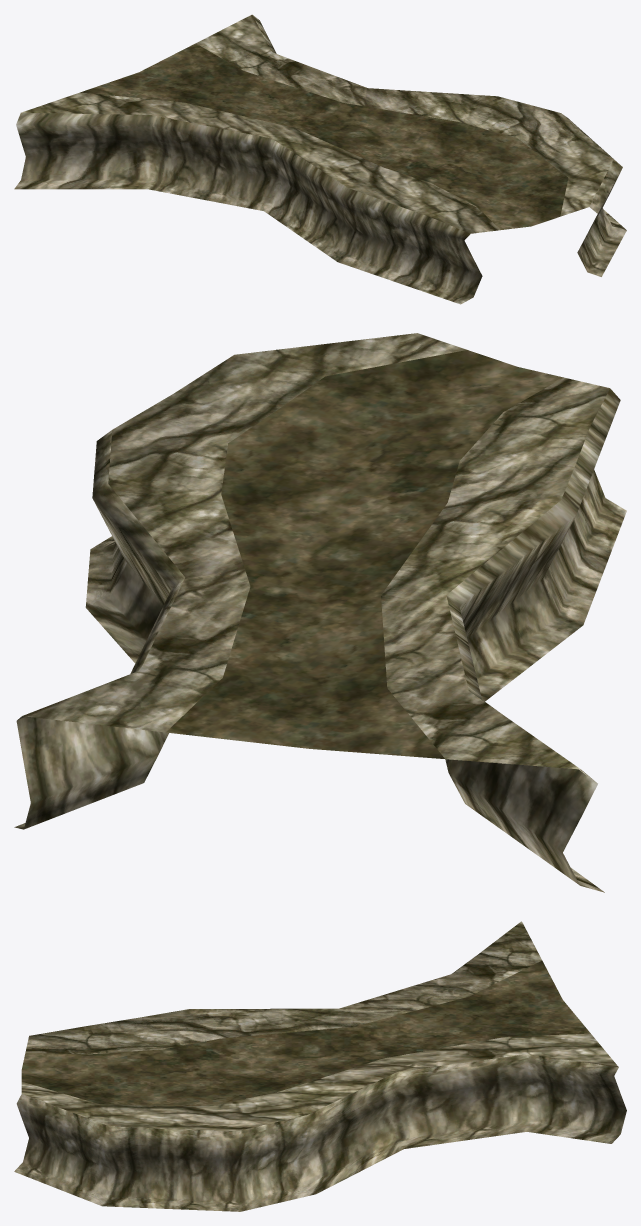
Rendered from CB_NEWPLAYSURFACE_CB_PLAYSURFACE159.fbx.
3 renders of one model, top to bottom at view 1: azimuth 30°, elevation 25°; view 2: azimuth 150°, elevation 25°; view 3: azimuth 270°, elevation 25°, orthographic. The views are drawn at different scales.
Parts seen in each view (by area): view 1: CB_NEWPLAYSURFACE_CB_PLAYSURFACE159; view 2: CB_NEWPLAYSURFACE_CB_PLAYSURFACE159; view 3: CB_NEWPLAYSURFACE_CB_PLAYSURFACE159.
Boxes of the visible parts, x1,y1,x2,y2 form: CB_NEWPLAYSURFACE_CB_PLAYSURFACE159: [14, 14, 626, 304]; CB_NEWPLAYSURFACE_CB_PLAYSURFACE159: [14, 333, 626, 892]; CB_NEWPLAYSURFACE_CB_PLAYSURFACE159: [14, 921, 626, 1211].
Bounding box in the file's own units: 205249 × 33000 × 241400.
3 materials, 3 textured.
